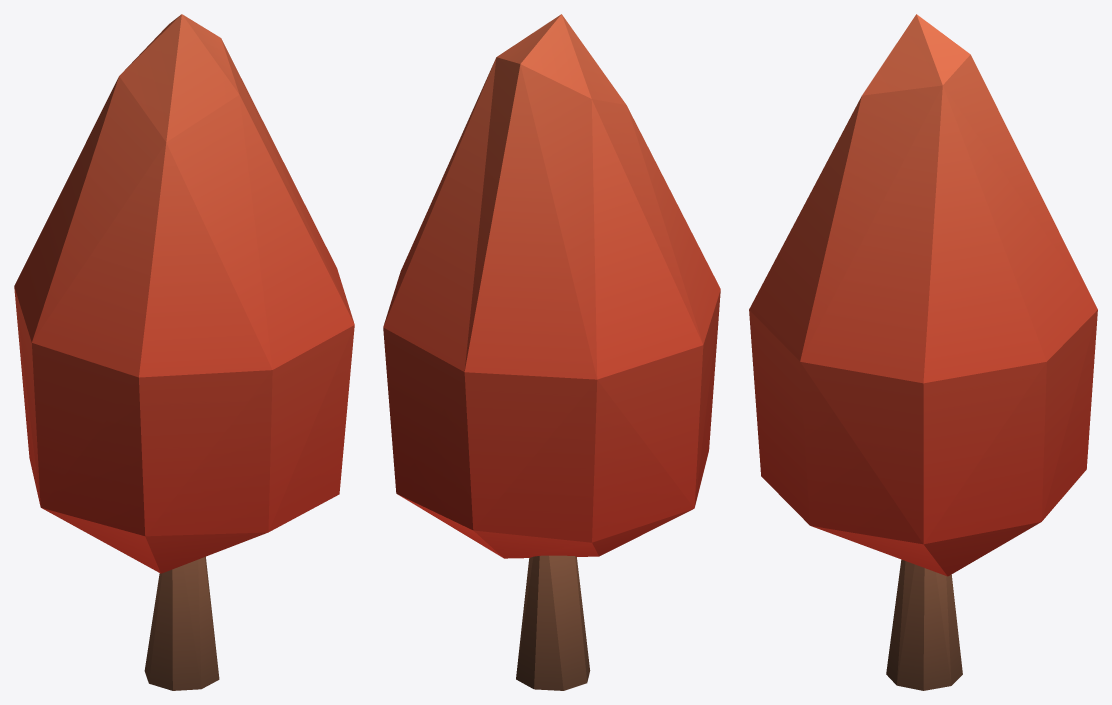
Rendered from autumn tree 16.fbx.
The picture shows the model from 3 angles, left to right: view 1: azimuth 30°, elevation 25°; view 2: azimuth 150°, elevation 25°; view 3: azimuth 270°, elevation 25°; orthographic projection.
Parts seen in each view (by area): view 1: autumn tree 16; view 2: autumn tree 16; view 3: autumn tree 16.
Part boxes in pixels (left/top/right/bottom): autumn tree 16: left=14, top=14, right=354, bottom=690; autumn tree 16: left=383, top=14, right=720, bottom=690; autumn tree 16: left=749, top=14, right=1097, bottom=690.
Size of the model in its own units: 313 by 651 by 313.
